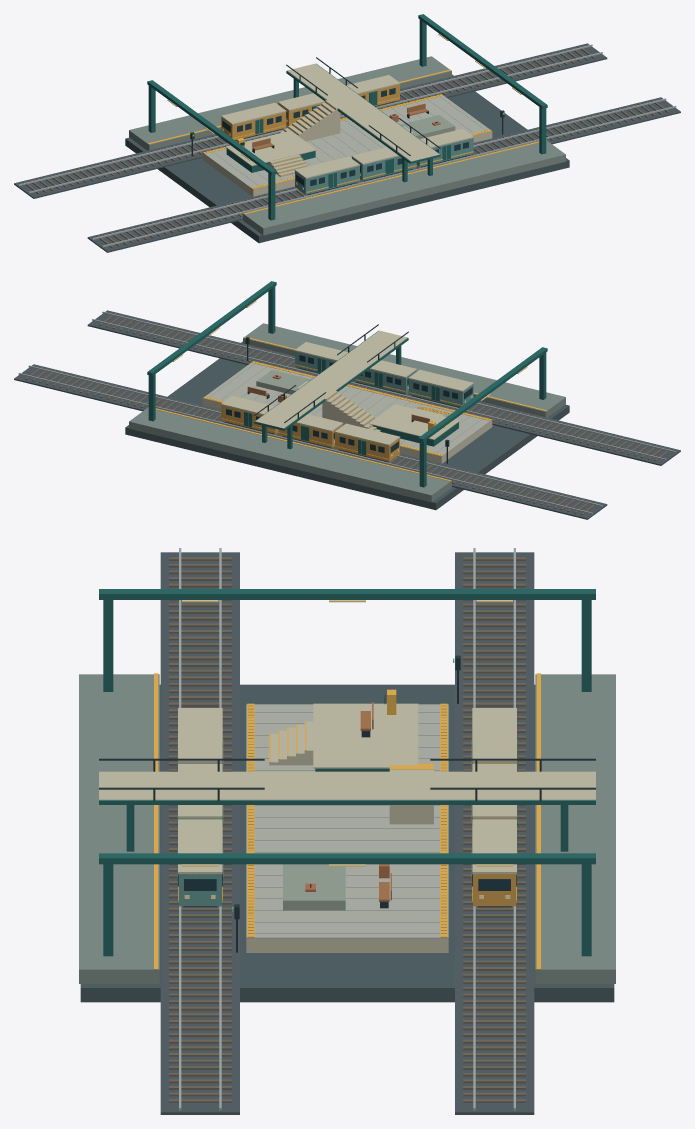
Rendered from station.glb.
3 views of the same model, one above another, from view 1: azimuth 30°, elevation 25°; view 2: azimuth 150°, elevation 25°; view 3: azimuth 270°, elevation 25° (orthographic). The views are drawn at different scales.
Parts seen in each view (by area): view 1: Outer station platform (×2), Sunken track bed (×2), Cutaway station foundation, Platform stone surface, Steel rail (×4), Footbridge walkway, Carriage roof (×6), Train carriage (×5), Hall crossbeam (×2), West terrace coping, Island fighting platform, East luggage podium (+2 smaller); view 2: Outer station platform (×2), Sunken track bed (×2), Cutaway station foundation, Steel rail (×4), Platform stone surface, Train carriage (×6), Footbridge walkway, Carriage roof (×6), Hall crossbeam (×2), West terrace coping, Island fighting platform, East luggage podium (+4 smaller); view 3: Sunken track bed (×2), Outer station platform (×2), Platform stone surface, Cutaway station foundation, Footbridge walkway, Hall crossbeam (×2), Carriage roof (×6), West terrace coping, Steel rail (×4), Hall column (×4), Yellow tactile edge (×2), Island fighting platform (+5 smaller).
Boxes of the visible parts, box(x1,y1,x2,y2) form: Outer station platform (×2): box(129, 56, 565, 235); Sunken track bed (×2): box(14, 43, 680, 252); Cutaway station foundation: box(125, 74, 569, 243); Platform stone surface: box(202, 95, 492, 189); Steel rail (×4): box(18, 44, 676, 247); Footbridge walkway: box(287, 63, 439, 161); Carriage roof (×6): box(221, 75, 473, 178); Train carriage (×5): box(221, 84, 473, 194); Hall crossbeam (×2): box(147, 14, 547, 175); West terrace coping: box(225, 130, 316, 166); Island fighting platform: box(202, 132, 492, 196); East luggage podium: box(400, 115, 455, 138); Outer station platform (×2): box(129, 323, 565, 502); Sunken track bed (×2): box(14, 310, 680, 519); Cutaway station foundation: box(125, 341, 569, 510); Steel rail (×4): box(18, 311, 676, 514); Platform stone surface: box(202, 362, 492, 456); Train carriage (×6): box(221, 351, 473, 461); Footbridge walkway: box(255, 330, 407, 428); Carriage roof (×6): box(221, 342, 473, 445); Hall crossbeam (×2): box(147, 281, 547, 442); West terrace coping: box(369, 404, 460, 439); Island fighting platform: box(202, 399, 492, 463); East luggage podium: box(256, 370, 311, 394); Sunken track bed (×2): box(160, 552, 534, 1114); Outer station platform (×2): box(79, 674, 615, 983); Platform stone surface: box(246, 704, 448, 938); Cutaway station foundation: box(80, 684, 614, 1002); Footbridge walkway: box(99, 771, 595, 800); Hall crossbeam (×2): box(99, 589, 595, 864); Carriage roof (×6): box(178, 708, 516, 874); West terrace coping: box(313, 703, 418, 768); Steel rail (×4): box(179, 548, 515, 1110); Hall column (×4): box(103, 600, 591, 956); Yellow tactile edge (×2): box(247, 703, 447, 937); Island fighting platform: box(246, 938, 448, 952).
Bounding box in the file's own units: 101 × 10.65 × 40.88.
